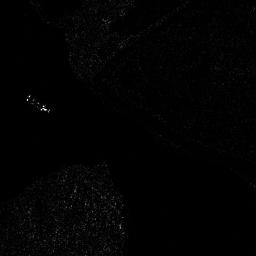ship: (25, 94, 52, 115)
